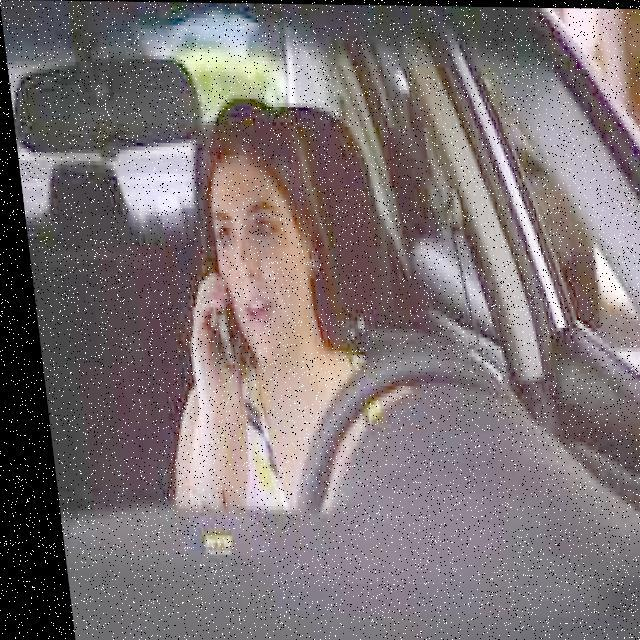noSeatbelt: (123, 109, 385, 526)
